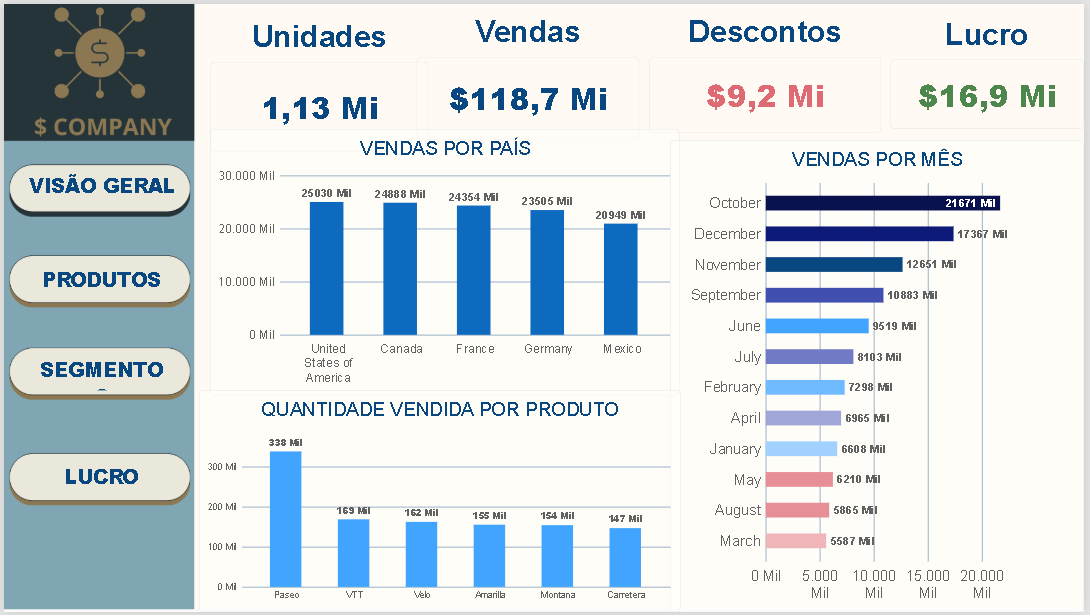

Layout of this report page (visuals, bound fields, positions):
{"tool":"powerbi","page":{"name":"VISÃO GERAL","canvas":[1920,1080],"ordinal":0},"visuals":[{"type":"actionButton","box":[54.3,459.1,240,66.8],"z":2000},{"type":"actionButton","box":[54.3,461.2,240,66.8],"z":4000},{"type":"textbox","title":"PRODUTOS","box":[54.3,465.4,240,62.6],"z":4001},{"type":"textbox","title":"SEGMENTOS","box":[54.3,624,240,62.6],"z":4002},{"type":"textbox","title":"LUCRO","box":[54.3,816,240,62.6],"z":4003},{"type":"textbox","title":"VISÃO GERAL","box":[2.1,298.4,344.3,62.6],"z":4004},{"type":"cardVisual","title":"Vendas","fields":{"Data":["Sum(financials.Sales)"]},"box":[732.5,18.8,396.5,223.3],"z":4005},{"type":"cardVisual","title":"Lucro","fields":{"Data":["Sum(financials.Profit)"]},"box":[1575.7,23,344.3,200.3],"z":4006},{"type":"cardVisual","title":"Descontos","fields":{"Data":["Sum(financials.Discounts)"]},"box":[1145.7,18.8,413.2,212.9],"z":4007},{"type":"cardVisual","title":"Unidades","fields":{"Data":["Sum(financials.Units Sold)"]},"box":[367.3,27.1,388.2,237.9],"z":4008},{"type":"actionButton","box":[56.3,619.8,240,66.8],"z":4009},{"type":"actionButton","box":[54.3,811.8,240,66.8],"z":4010},{"type":"lineClusteredColumnComboChart","title":"VENDAS POR PAÍS","fields":{"Category":["financials.Country"],"Y":["Sum(financials.Sales)"]},"box":[367.3,223.3,834.8,473.7],"z":4022},{"type":"barChart","title":"VENDAS POR MÊS","fields":{"Category":["financials.Month Name"],"Y":["Sum(financials.Sales)"]},"box":[1185.4,242.1,734.6,839],"z":4023},{"type":"lineClusteredColumnComboChart","title":"QUANTIDADE VENDIDA POR PRODUTO","fields":{"Category":["financials.Product"],"Y":["Sum(financials.Units Sold)"]},"box":[346.4,686.6,855.7,394.4],"z":4024}]}

Visuals, with their boxes in screenshot pixels (x1, y1, x2, y2), scaled from the page's 1920x1080 canvas onto the 1090x615 screenshot:
actionButton: (x1=31, y1=261, x2=167, y2=299)
actionButton: (x1=31, y1=263, x2=167, y2=301)
"PRODUTOS" textbox: (x1=31, y1=265, x2=167, y2=301)
"SEGMENTOS" textbox: (x1=31, y1=355, x2=167, y2=391)
"LUCRO" textbox: (x1=31, y1=465, x2=167, y2=500)
"VISÃO GERAL" textbox: (x1=1, y1=170, x2=197, y2=206)
"Vendas" cardVisual: (x1=416, y1=11, x2=641, y2=138)
"Lucro" cardVisual: (x1=895, y1=13, x2=1089, y2=127)
"Descontos" cardVisual: (x1=650, y1=11, x2=885, y2=132)
"Unidades" cardVisual: (x1=209, y1=15, x2=429, y2=151)
actionButton: (x1=32, y1=353, x2=168, y2=391)
actionButton: (x1=31, y1=462, x2=167, y2=500)
"VENDAS POR PAÍS" lineClusteredColumnComboChart: (x1=209, y1=127, x2=682, y2=397)
"VENDAS POR MÊS" barChart: (x1=673, y1=138, x2=1089, y2=614)
"QUANTIDADE VENDIDA POR PRODUTO" lineClusteredColumnComboChart: (x1=197, y1=391, x2=682, y2=614)
